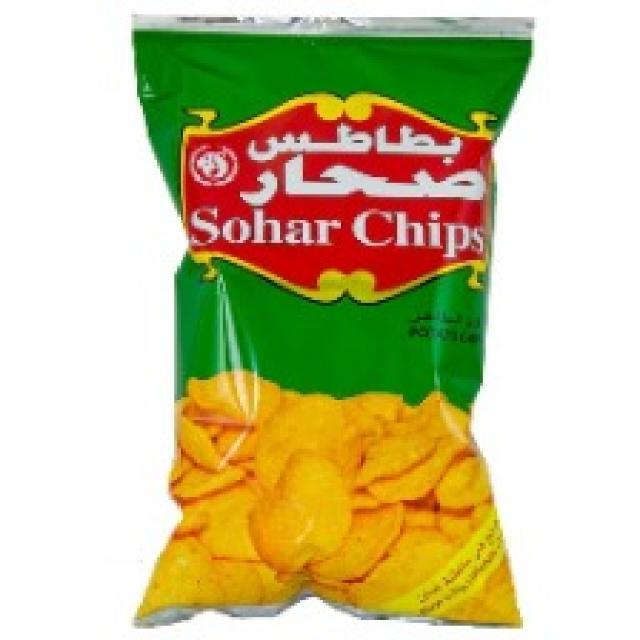plastic: (120, 8, 531, 640)
